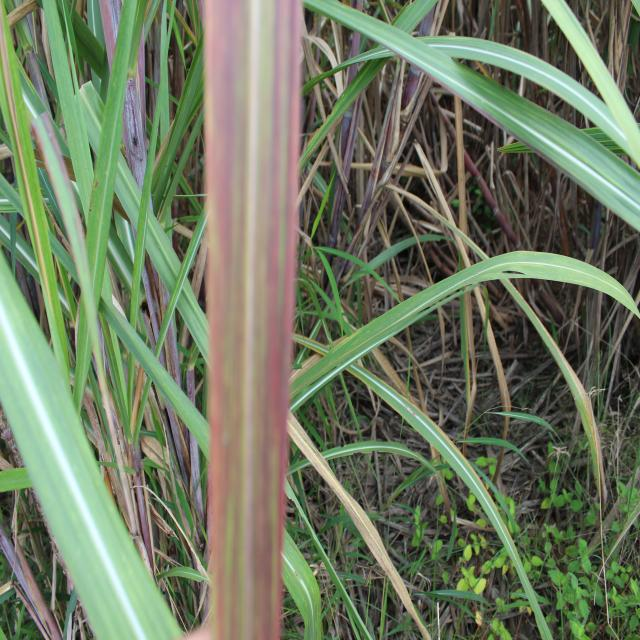Sugarcane: (3, 205, 189, 640), (198, 0, 289, 638), (318, 250, 640, 425), (409, 40, 640, 246), (411, 80, 510, 484), (77, 1, 154, 422), (29, 108, 122, 455), (493, 274, 605, 514), (1, 0, 70, 388), (96, 283, 212, 465), (125, 6, 175, 395), (533, 3, 640, 184), (282, 465, 366, 640), (470, 253, 638, 332), (38, 1, 96, 222), (314, 52, 394, 210), (152, 10, 206, 221), (155, 200, 210, 372), (107, 1, 154, 143), (13, 58, 68, 162), (93, 293, 129, 450), (296, 0, 406, 46), (342, 234, 442, 284), (466, 409, 564, 456), (312, 248, 350, 347), (280, 529, 314, 636), (152, 4, 172, 181), (323, 440, 416, 474), (69, 4, 106, 80), (36, 164, 71, 242), (388, 0, 447, 36)
